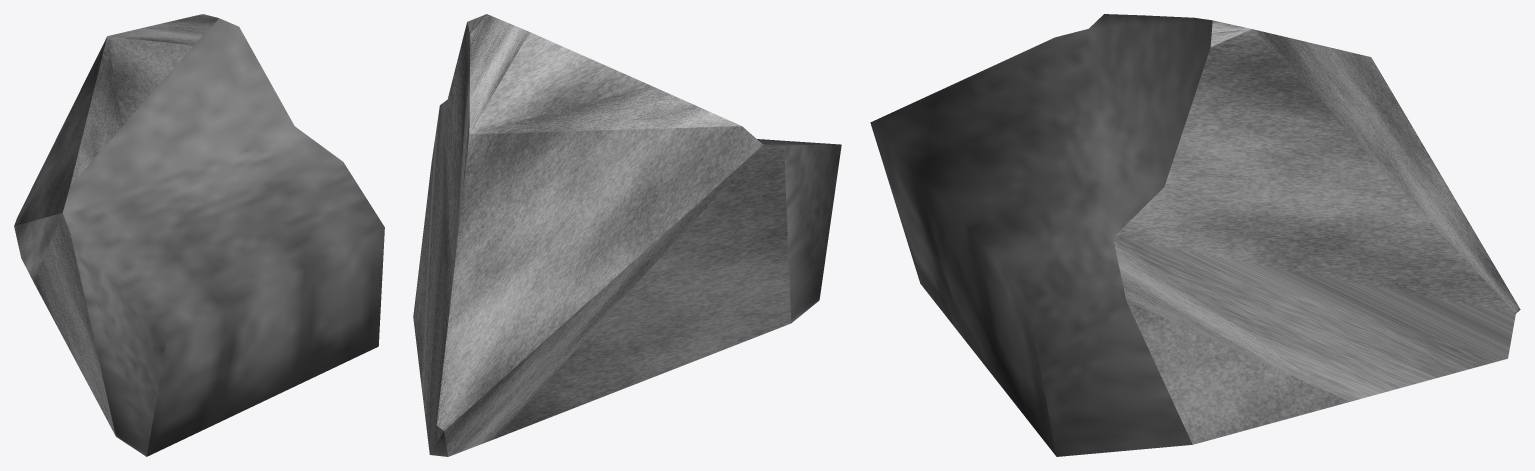
File: leg_2_cell_010.fbx
The picture shows the model from 3 angles, left to right: view 1: azimuth 30°, elevation 25°; view 2: azimuth 150°, elevation 25°; view 3: azimuth 270°, elevation 25°; orthographic projection. The views are drawn at different scales.
Visible parts, largest first — view 1: leg_2_cell.010; view 2: leg_2_cell.010; view 3: leg_2_cell.010.
Part boxes in pixels (x1=…): leg_2_cell.010: x1=14, y1=14, x2=384, y2=456; leg_2_cell.010: x1=413, y1=14, x2=841, y2=456; leg_2_cell.010: x1=870, y1=14, x2=1520, y2=456.
Size of the model in its own units: 20.26 by 19.18 by 29.87.
